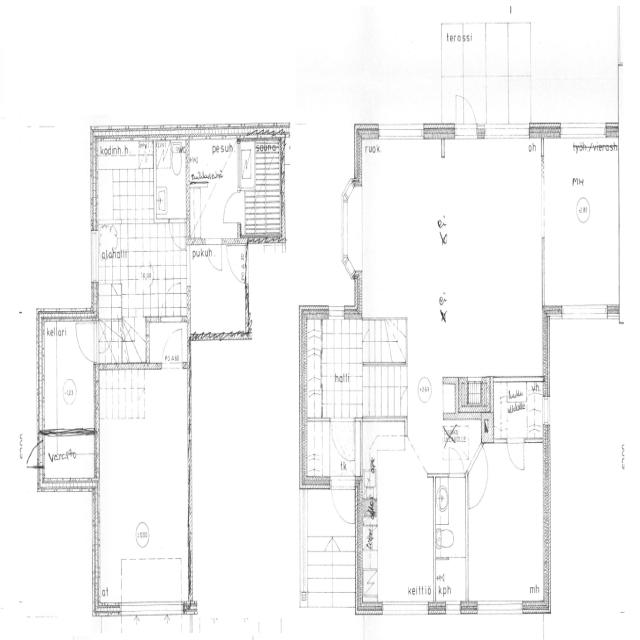door: (329, 473, 356, 529), (467, 449, 489, 513), (157, 324, 186, 370), (330, 416, 356, 462), (455, 93, 478, 140), (75, 318, 97, 363), (220, 187, 244, 227), (225, 242, 247, 284), (505, 435, 527, 474), (446, 443, 466, 482), (168, 214, 187, 250), (206, 238, 223, 274), (26, 443, 42, 469)
window: (559, 301, 611, 328), (380, 597, 430, 621), (339, 189, 353, 268), (474, 598, 526, 619), (377, 122, 426, 144), (483, 123, 529, 146), (115, 601, 183, 616), (558, 123, 608, 142), (88, 226, 99, 288), (542, 392, 552, 429), (444, 600, 462, 617)
zone: (360, 134, 544, 380), (96, 369, 188, 613), (358, 419, 434, 608), (466, 440, 549, 610), (94, 222, 187, 370), (541, 141, 619, 231), (541, 228, 619, 310), (40, 318, 95, 432), (188, 240, 249, 339), (92, 131, 155, 222), (187, 134, 240, 242), (239, 135, 282, 240), (492, 378, 546, 442), (39, 429, 97, 487), (434, 476, 468, 560), (155, 138, 187, 220), (434, 556, 468, 607)
